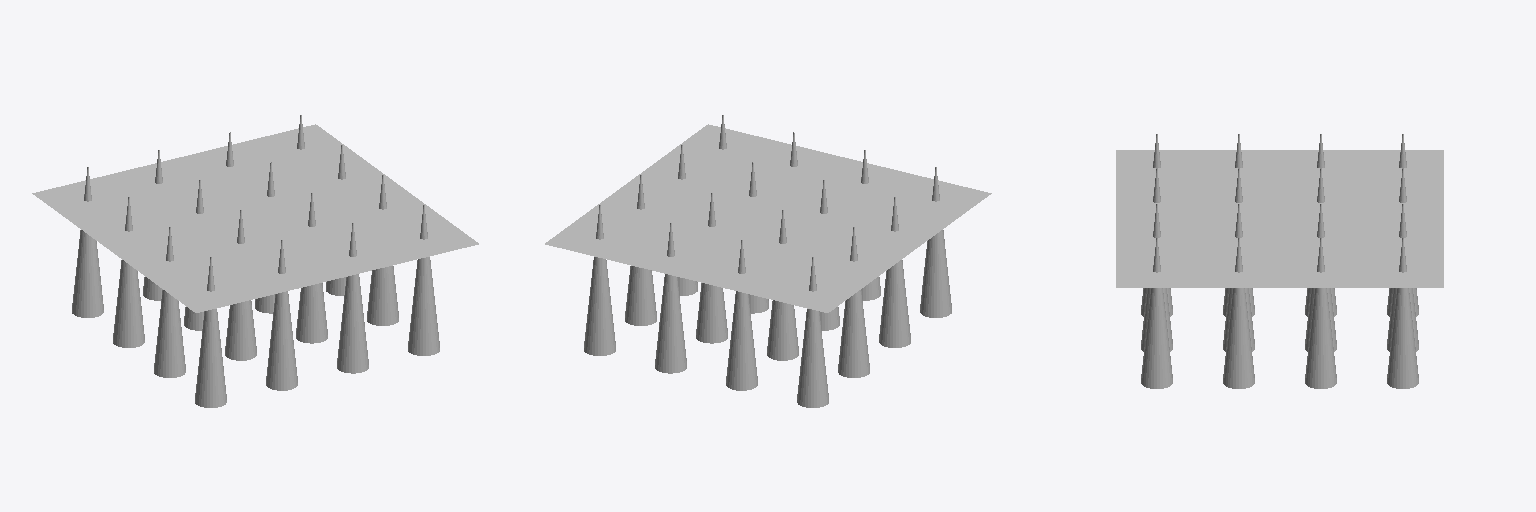
The model's file is Spikes.obj.
The picture shows the model from 3 angles: view 1: azimuth 30°, elevation 25°; view 2: azimuth 150°, elevation 25°; view 3: azimuth 270°, elevation 25°; orthographic projection.
Visible parts, largest first — view 1: Plane, Cone.012, Cone.004, Cone, Cone.008, Cone.001, Cone.003, Cone.002, Cone.006, Cone.014, Cone.010; view 2: Plane, Cone.013, Cone.005, Cone.002, Cone.009, Cone.001, Cone.003, Cone, Cone.007, Cone.015, Cone.011; view 3: Plane, Cone.004, Cone.005, Cone.006, Cone.007, Cone.012, Cone.013, Cone.014, Cone.015.
Boxes of the visible parts, x1,y1,x2,y2 form: Plane: [32, 124, 478, 312]; Cone.012: [337, 223, 368, 373]; Cone.004: [408, 205, 439, 355]; Cone: [195, 257, 226, 407]; Cone.008: [266, 240, 297, 390]; Cone.001: [154, 227, 185, 377]; Cone.003: [113, 197, 144, 347]; Cone.002: [72, 167, 103, 317]; Cone.006: [367, 175, 398, 325]; Cone.014: [296, 193, 327, 343]; Cone.010: [225, 210, 256, 360]; Plane: [545, 124, 991, 312]; Cone.013: [655, 223, 686, 373]; Cone.005: [584, 205, 615, 355]; Cone.002: [797, 257, 828, 407]; Cone.009: [726, 240, 757, 390]; Cone.001: [879, 197, 910, 347]; Cone.003: [838, 227, 869, 377]; Cone: [920, 167, 951, 317]; Cone.007: [625, 175, 656, 325]; Cone.015: [696, 193, 727, 343]; Cone.011: [767, 210, 798, 360]; Plane: [1116, 150, 1443, 287]; Cone.004: [1141, 238, 1172, 388]; Cone.005: [1387, 238, 1418, 388]; Cone.006: [1223, 238, 1254, 388]; Cone.007: [1305, 238, 1336, 388]; Cone.012: [1141, 204, 1172, 351]; Cone.013: [1387, 204, 1418, 351]; Cone.014: [1223, 204, 1254, 351]; Cone.015: [1305, 204, 1336, 351].
Bounding box in the file's own units: 2 × 1 × 2.